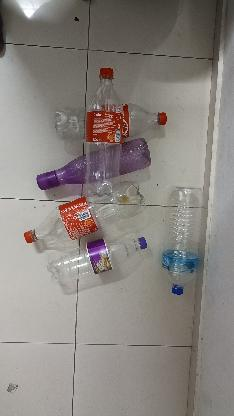Plastic Bottle: (3, 181, 165, 242), (28, 138, 160, 190), (43, 226, 148, 286), (164, 164, 201, 324), (84, 64, 124, 200), (52, 96, 172, 140)
